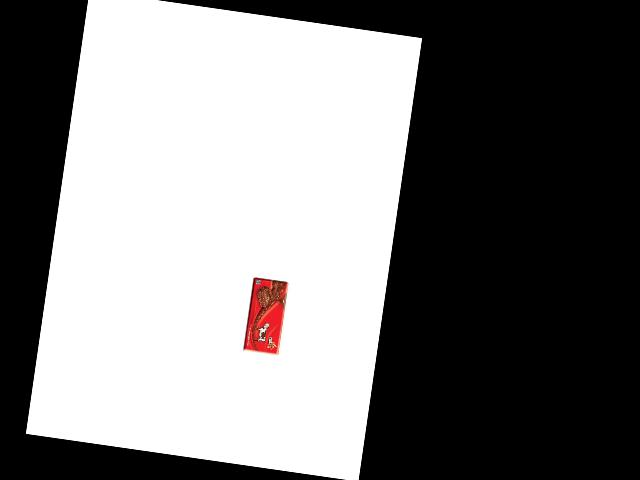chocolate: (250, 275, 296, 349)
